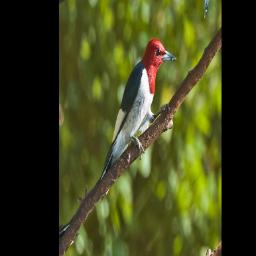Woodpecker: (82, 19, 186, 211)
